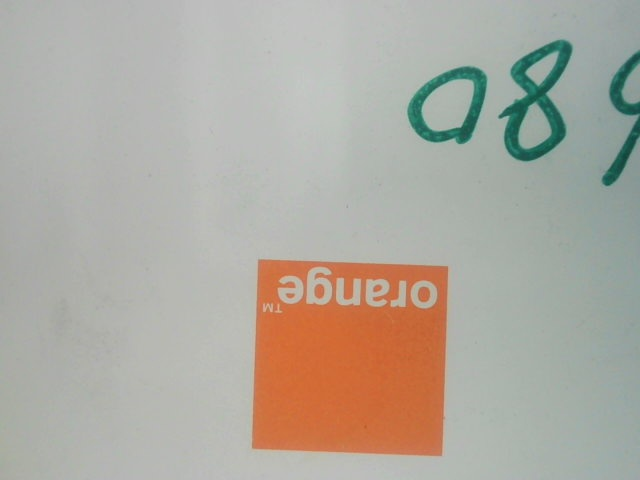AR_Orange: (237, 250, 452, 461)
